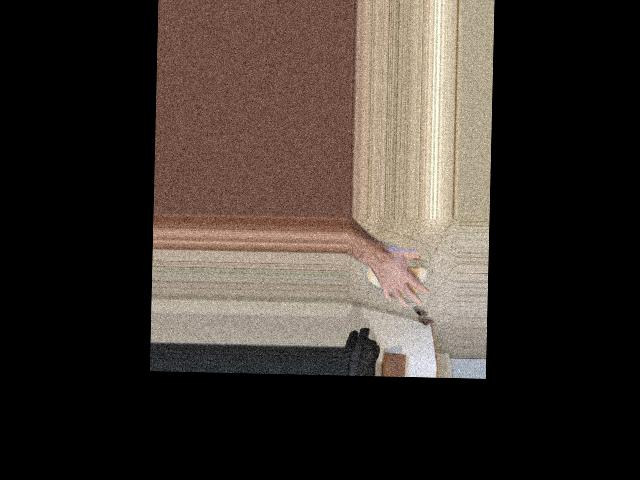cheese: (364, 241, 430, 307)
